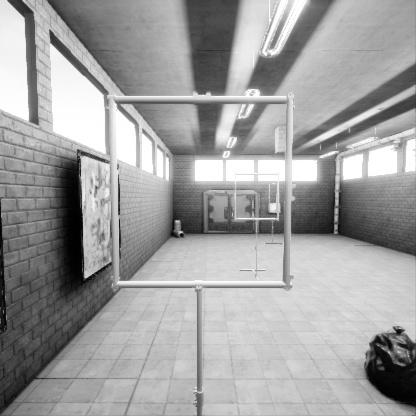gate: (118, 142, 297, 318), (235, 198, 282, 244), (268, 206, 277, 234)
